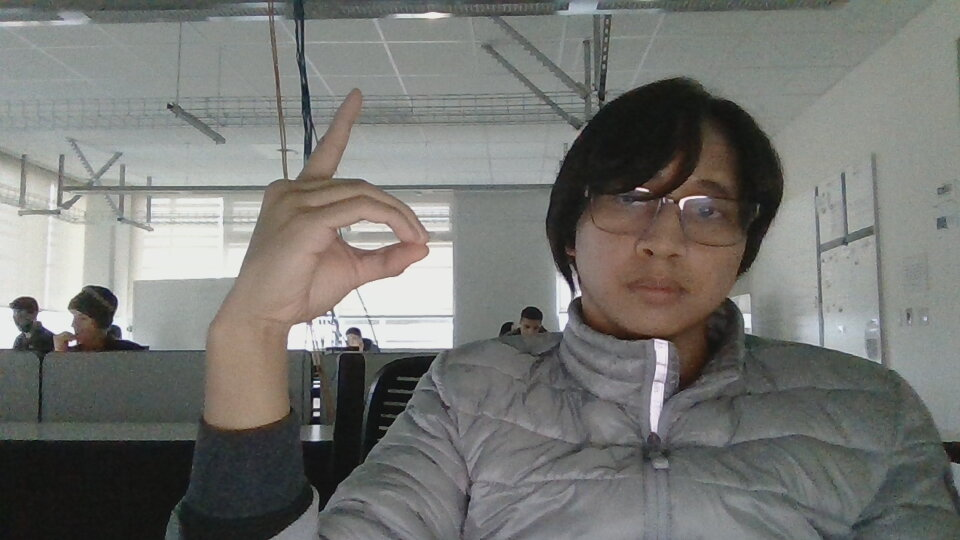d: (206, 86, 433, 325)
